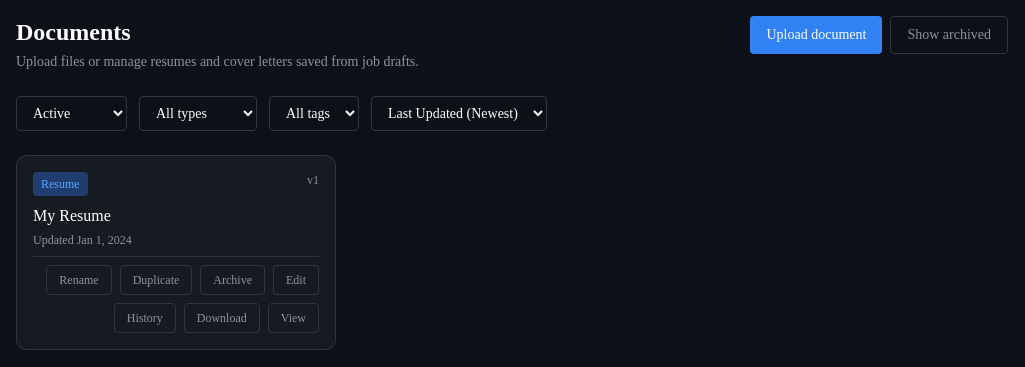
Test: DocumentsPage - S3-008 Document Archive and Restore › shows an archived-specific empty message when there are no archived documents
The width and height of the screenshot is (1025, 367).
Expected: the heading "My Resume" is shown, [33,207,111,224]
Click the button with test id "toggle-archived-documents" at (949, 35), box [890,16,1008,54]
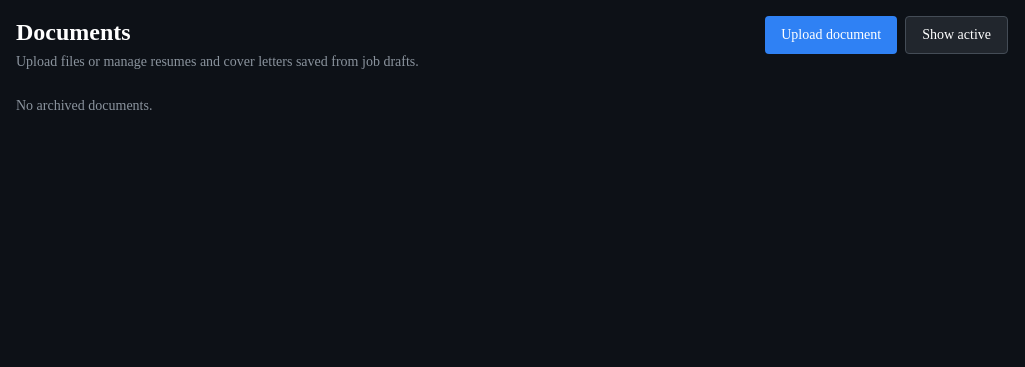
Expected: the text "No archived documents." is shown, [16,98,152,113]
